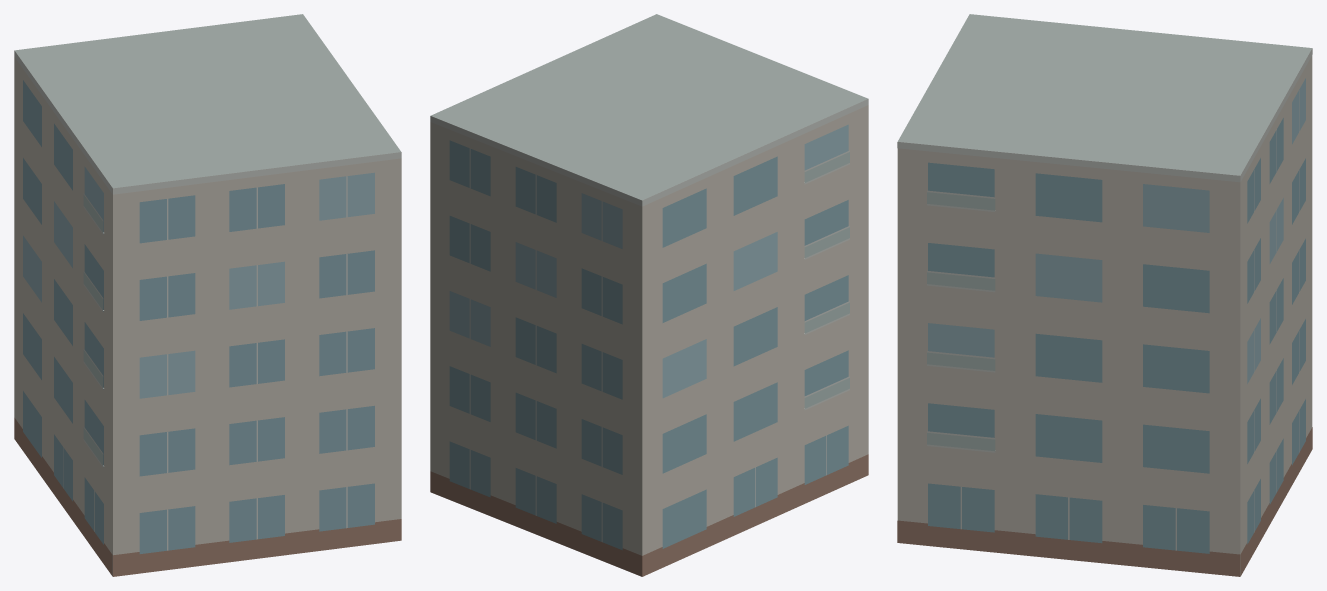
File: survey-upis-33019487.glb
3 views of the same model, side by side, from view 1: azimuth 30°, elevation 25°; view 2: azimuth 150°, elevation 25°; view 3: azimuth 270°, elevation 25° (orthographic). The views are drawn at different scales.
Parts seen in each view (by area): view 1: survey-upis-33019487.tmp; view 2: survey-upis-33019487.tmp; view 3: survey-upis-33019487.tmp.
Boxes of the visible parts, x1,y1,x2,y2 form: survey-upis-33019487.tmp: (14,14,401,576); survey-upis-33019487.tmp: (430,14,868,576); survey-upis-33019487.tmp: (897,14,1312,576).
Bounding box in the file's own units: 12.99 × 15 × 14.08.
